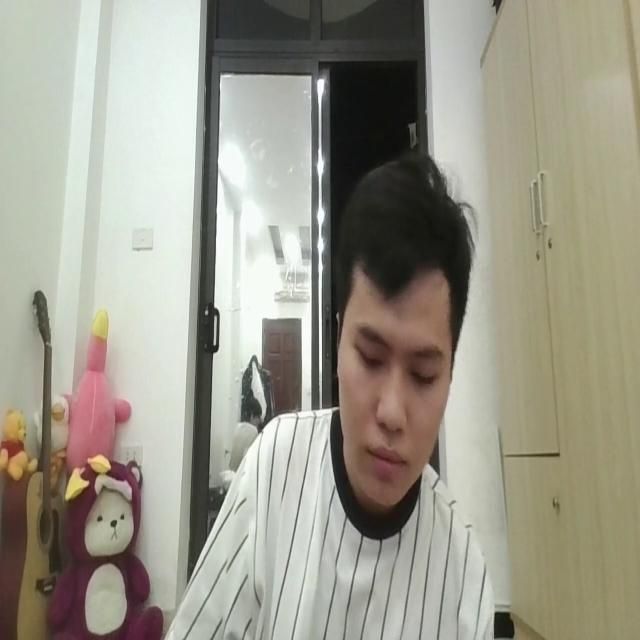student: (156, 157, 494, 640)
